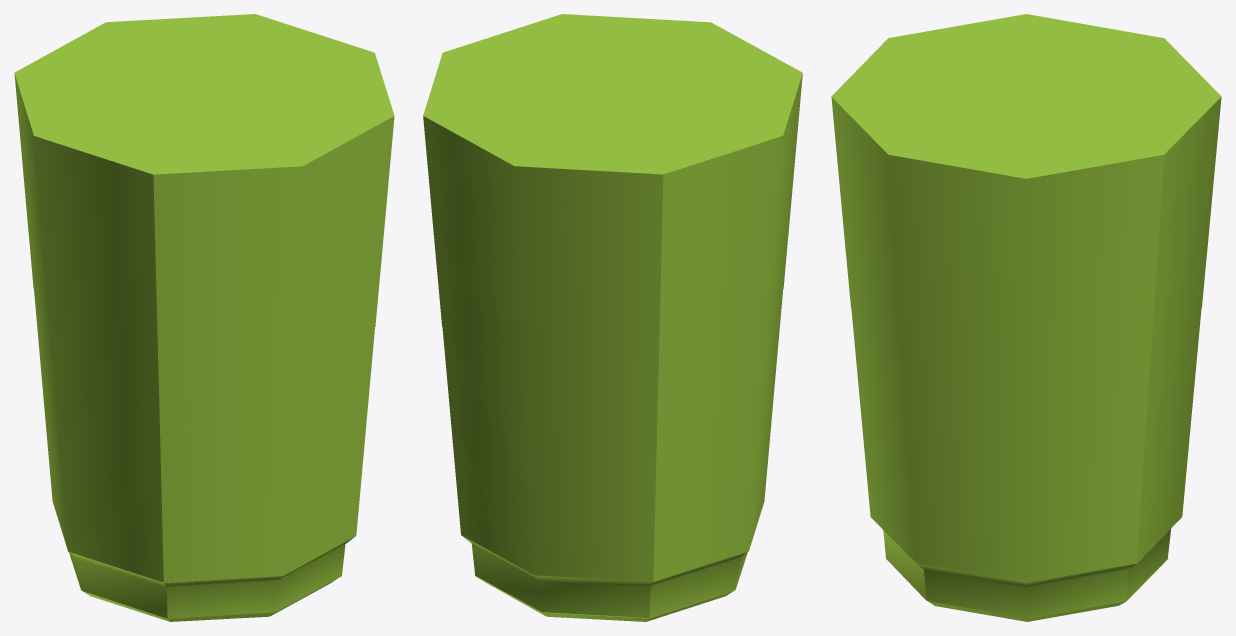
The model's file is mountain_dew.fbx.
3 views of the same model, side by side, from view 1: azimuth 30°, elevation 25°; view 2: azimuth 150°, elevation 25°; view 3: azimuth 270°, elevation 25° (orthographic).
Parts seen in each view (by area): view 1: Fill_Top8, Fill_Top1, Fill_Top2, Fill_Top3, Fill_Top5, Fill_Top6, Fill_Top4, Fill_Top7, Fill_Middle, Fill_Bottom; view 2: Fill_Top8, Fill_Top1, Fill_Top2, Fill_Top3, Fill_Top5, Fill_Top6, Fill_Top4, Fill_Top7, Fill_Middle, Fill_Bottom; view 3: Fill_Top8, Fill_Top1, Fill_Top2, Fill_Top3, Fill_Top5, Fill_Top6, Fill_Top4, Fill_Top7, Fill_Middle, Fill_Bottom.
Part boxes in pixels (<box>): Fill_Top8: <box>14,14,394,226</box>; Fill_Top1: <box>19,128,389,277</box>; Fill_Top2: <box>24,181,384,328</box>; Fill_Top3: <box>29,236,379,379</box>; Fill_Top5: <box>38,339,370,479</box>; Fill_Top6: <box>43,393,365,530</box>; Fill_Top4: <box>34,290,374,427</box>; Fill_Top7: <box>48,448,360,582</box>; Fill_Middle: <box>62,534,355,618</box>; Fill_Bottom: <box>69,553,336,621</box>; Fill_Top8: <box>423,14,802,225</box>; Fill_Top1: <box>428,128,797,277</box>; Fill_Top2: <box>432,181,793,328</box>; Fill_Top3: <box>437,236,788,379</box>; Fill_Top5: <box>447,340,778,478</box>; Fill_Top6: <box>451,393,773,530</box>; Fill_Top4: <box>442,291,782,427</box>; Fill_Top7: <box>456,447,769,581</box>; Fill_Middle: <box>461,501,764,617</box>; Fill_Bottom: <box>475,575,734,621</box>; Fill_Top8: <box>831,14,1221,229</box>; Fill_Top1: <box>836,150,1216,280</box>; Fill_Top2: <box>841,203,1211,331</box>; Fill_Top3: <box>846,256,1206,381</box>; Fill_Top5: <box>856,358,1196,480</box>; Fill_Top6: <box>861,411,1191,531</box>; Fill_Top4: <box>851,308,1201,429</box>; Fill_Top7: <box>865,464,1186,582</box>; Fill_Middle: <box>881,522,1176,618</box>; Fill_Bottom: <box>928,558,1168,621</box>.
Size of the model in its own units: 79.3 by 106 by 79.29.
1 material, 1 textured.
